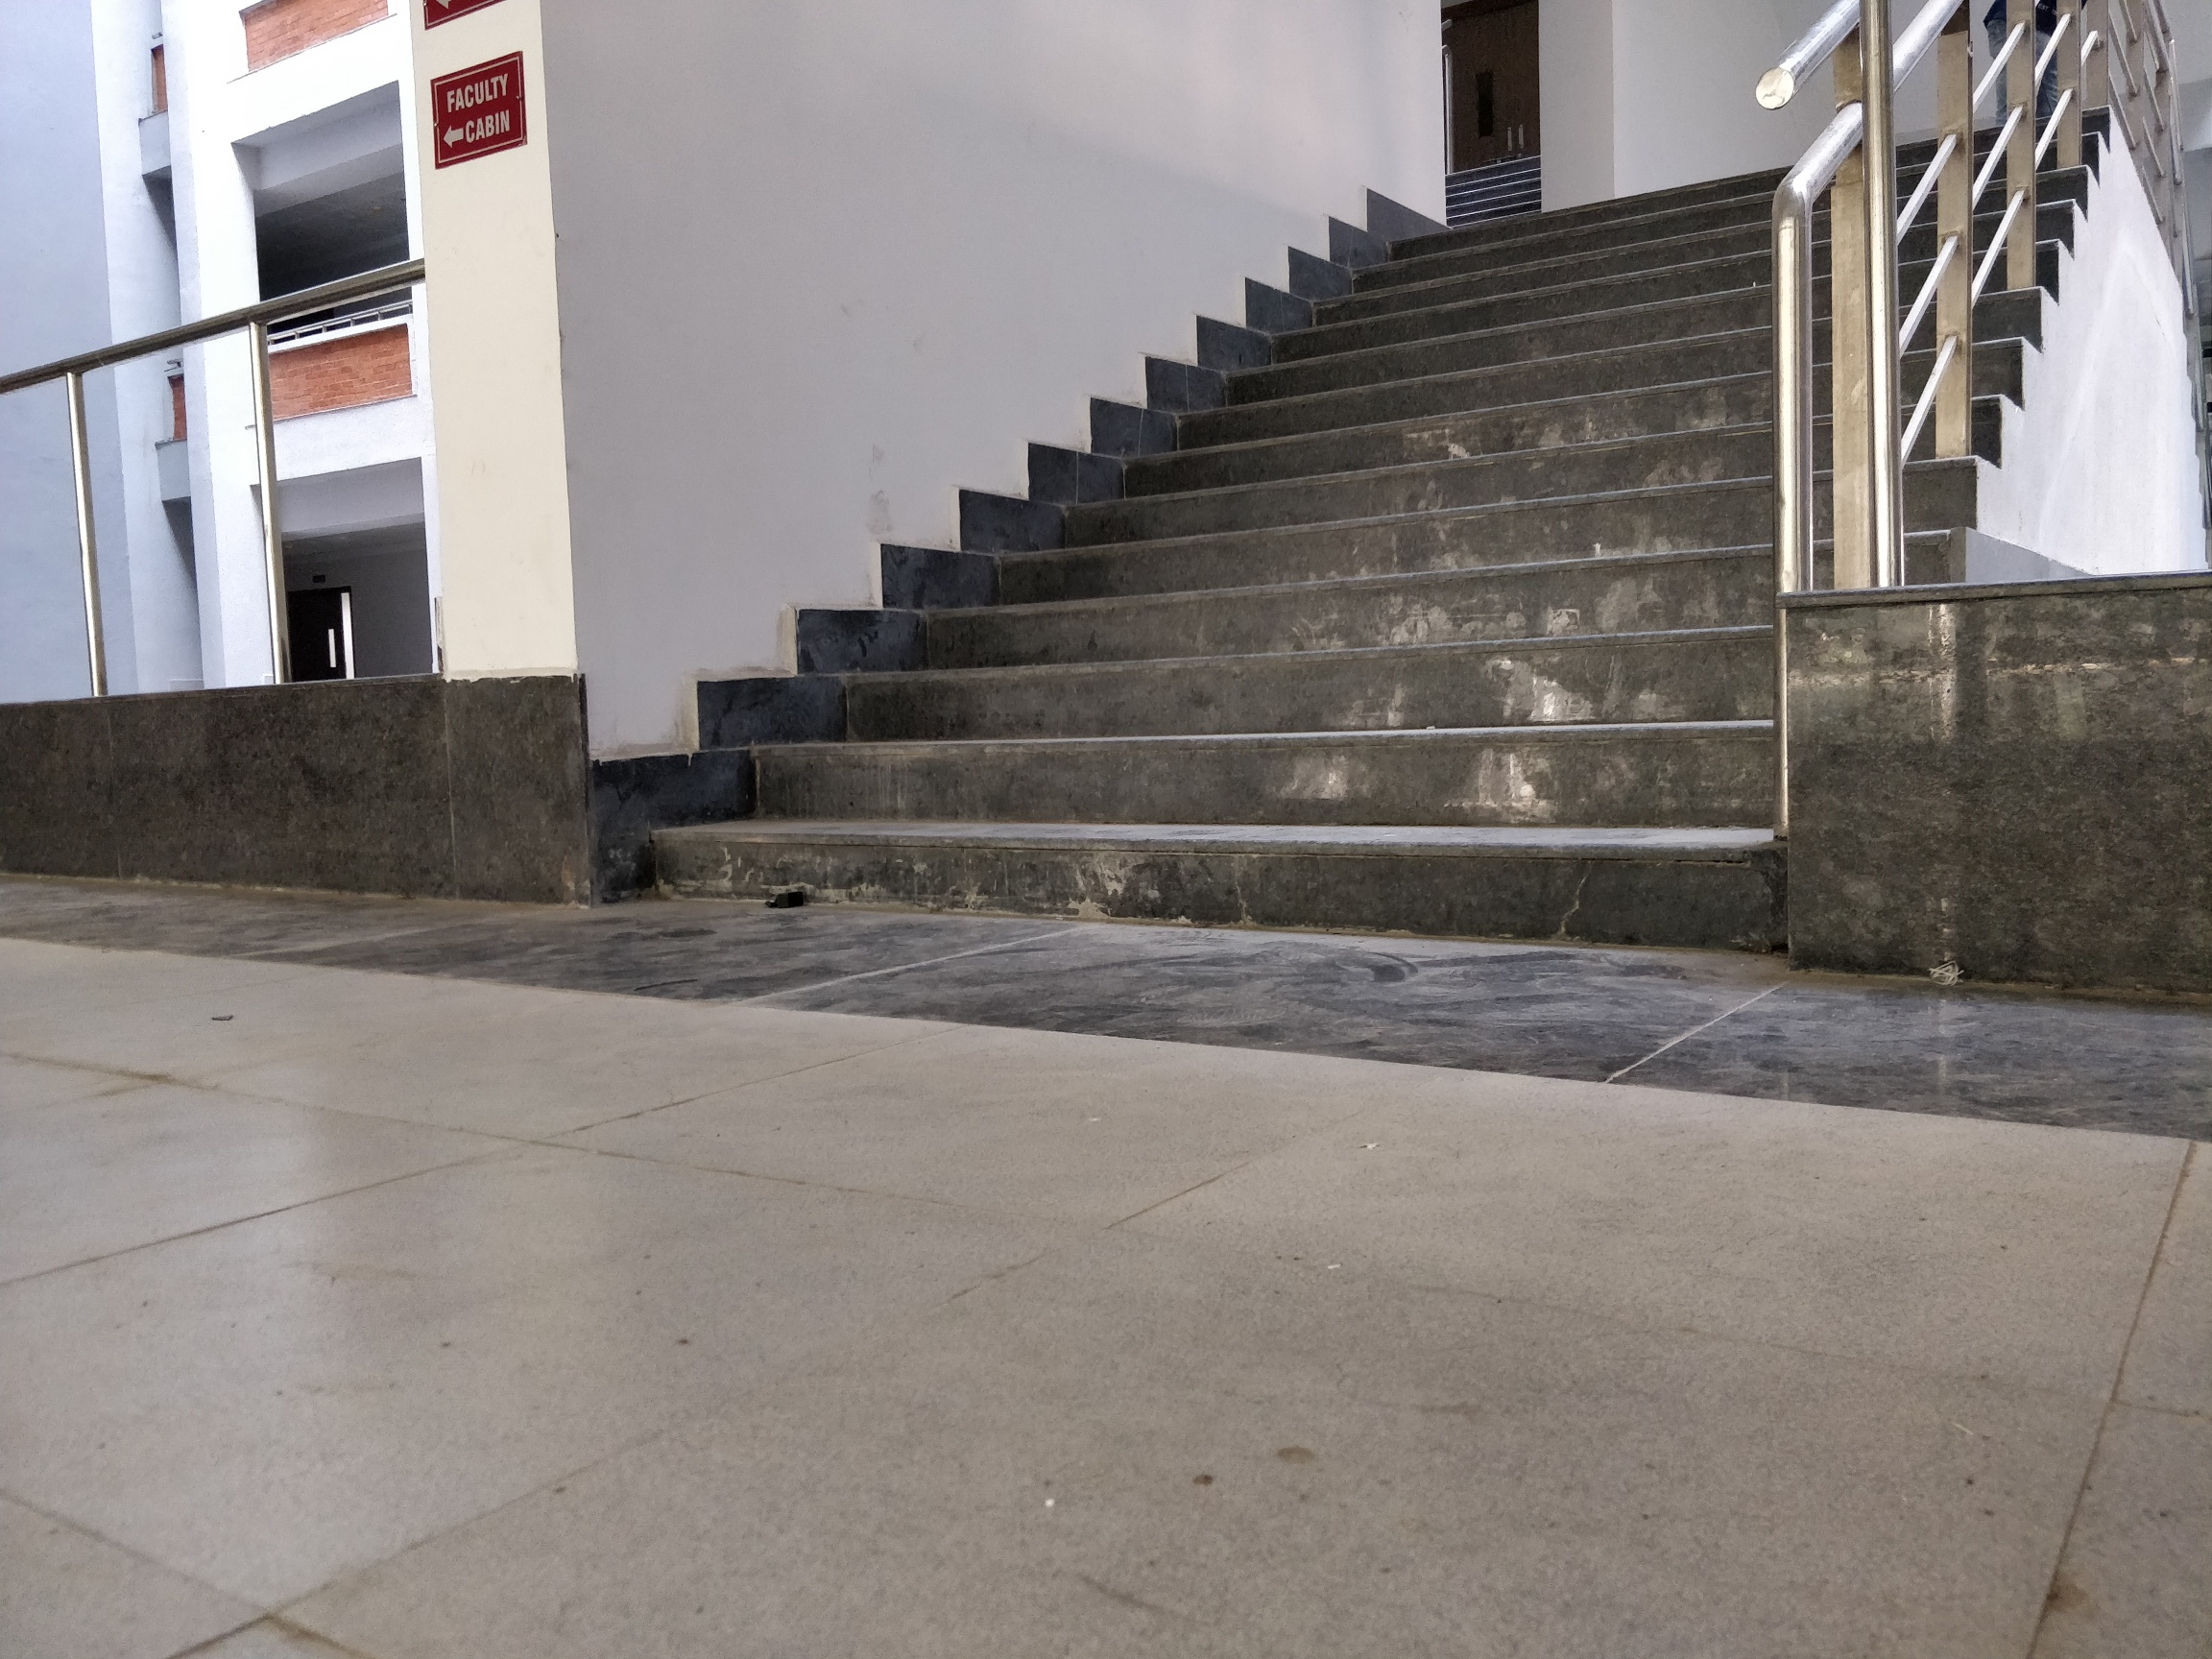stairs_up: (590, 106, 2097, 939)
